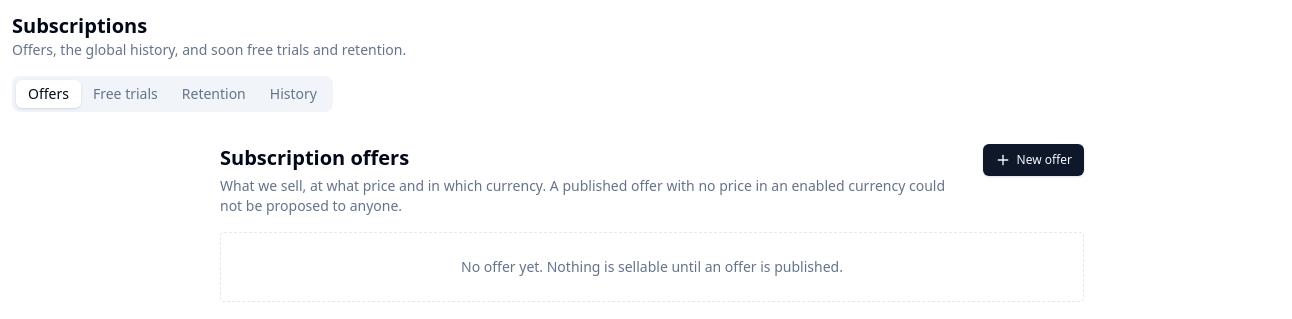
Test: AdminAbonnements › déroule l'historique global — compte, événement, offre
Step 1. Click the tab "History" → point(293, 94), box top-left (258, 80), bottom-right (329, 108)
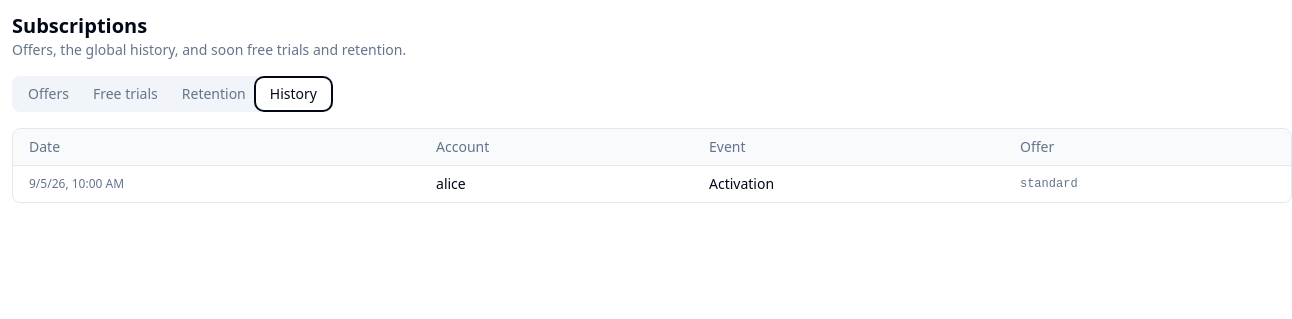
expect the text "alice" is shown: met, box top-left (436, 174), bottom-right (466, 193)
expect the text "Activation" is shown: met, box top-left (693, 166), bottom-right (1004, 202)
expect the text "standard" is shown: met, box top-left (1004, 166), bottom-right (1291, 202)
